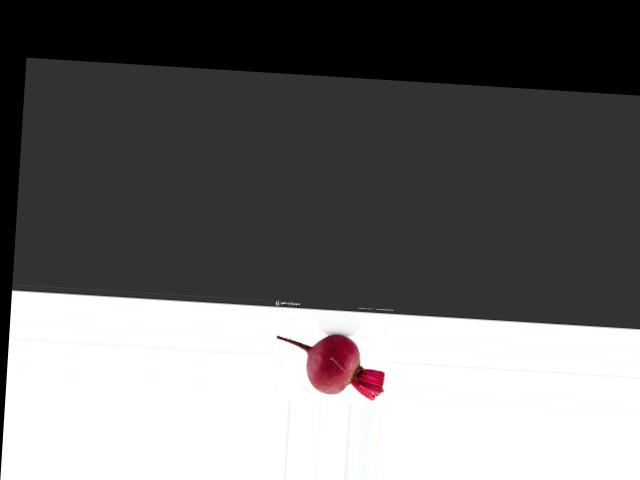beet: (273, 330, 387, 399)
